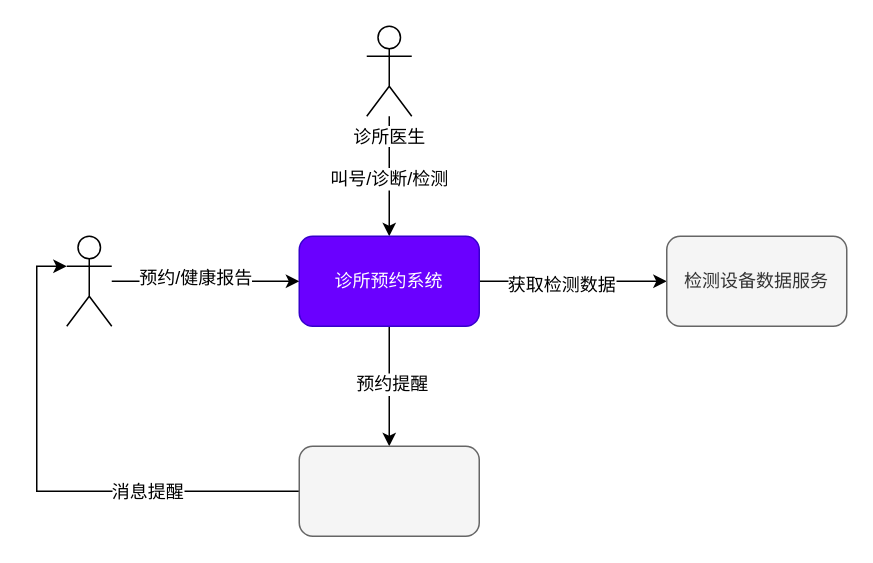
This 873x563 diagram has some shape labels left out. Here are the shapes that lost their labels. From the top down, the centre of each, then its label:
(88,280): 患者用户
(388,490): 短信服务
